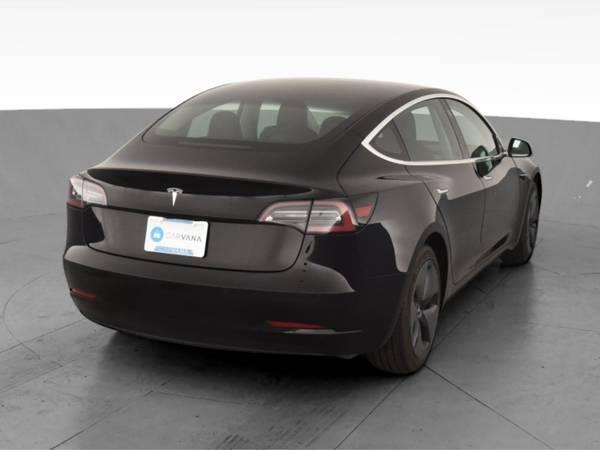Front_Right_Door: (472, 156, 520, 268)
Front_Right_Window: (443, 102, 502, 165)
Left_Taillight: (63, 174, 106, 210)
Rear_Bumper: (64, 204, 407, 355)
Rear_Fender: (340, 122, 437, 268)
Rear_Right_Door: (409, 162, 485, 293)
Rear_Right_Window: (393, 98, 468, 165)
Rear_Windshield: (138, 100, 362, 148)
Right_Taillight: (261, 188, 381, 237)
Roof: (181, 78, 501, 156)
Tailgate: (73, 139, 344, 268)
Wheel: (400, 247, 448, 369), (523, 189, 541, 261)
